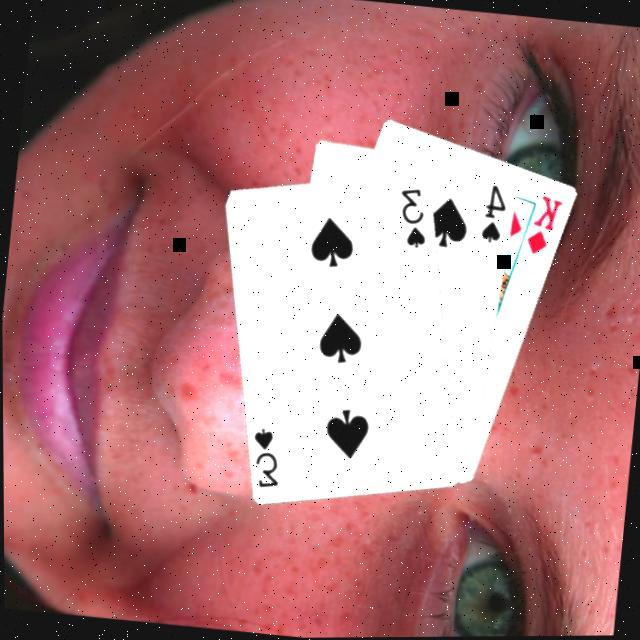3S: (392, 184, 436, 253), (245, 426, 286, 494)
4S: (477, 182, 512, 249)
KD: (522, 192, 567, 262)
